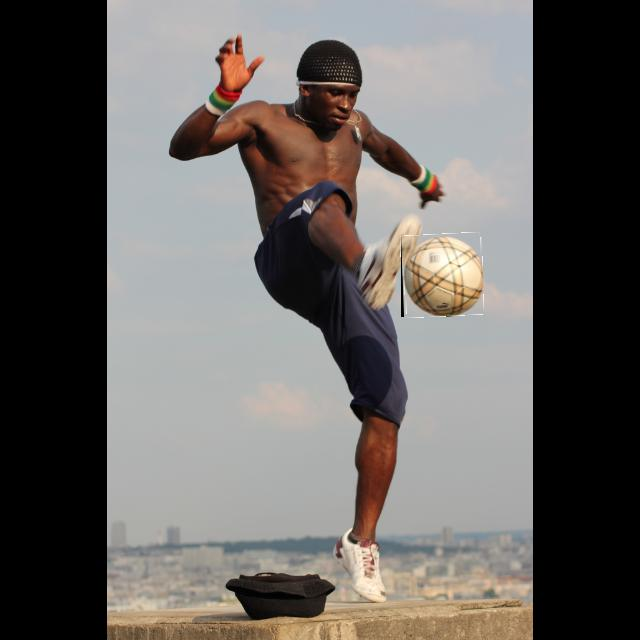Football: (401, 233, 483, 317)
